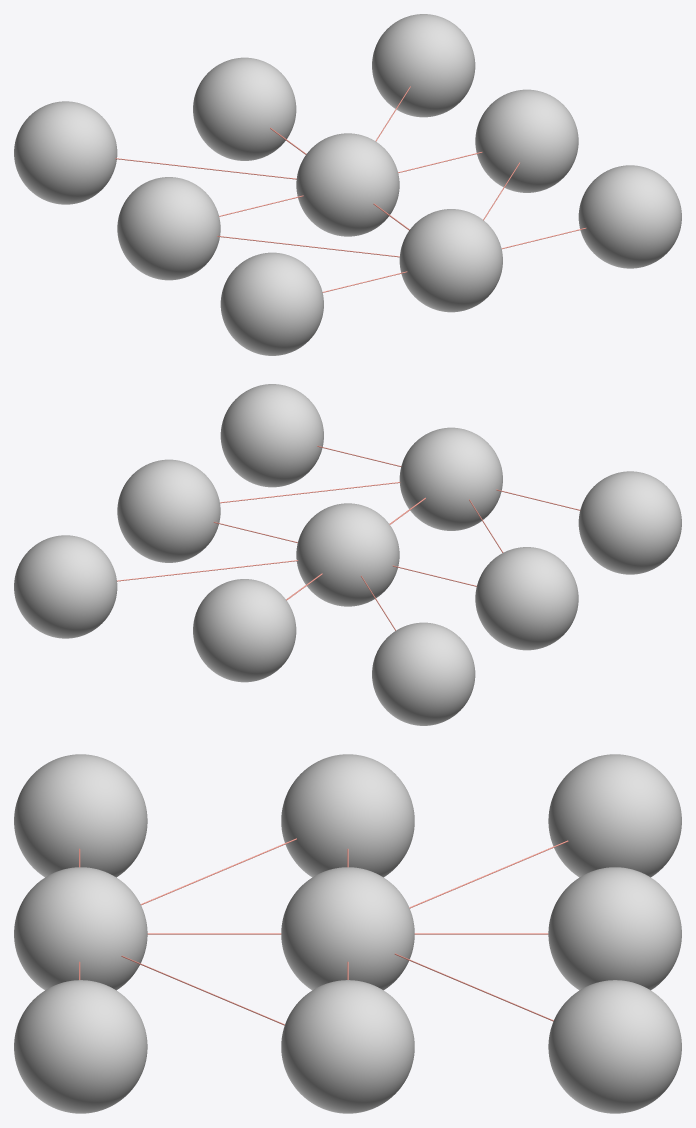
The picture shows the model from 3 angles, top to bottom: view 1: azimuth 30°, elevation 25°; view 2: azimuth 150°, elevation 25°; view 3: azimuth 270°, elevation 25°; orthographic projection. The views are drawn at different scales.
Parts seen in each view (by area): view 1: Cylinder-Plastic, Cylinder-PBR; view 2: Cylinder-Plastic, Cylinder-PBR; view 3: Cylinder-Plastic, Cylinder-PBR.
Part boxes in pixels (x1,y1,x2,y2): Cylinder-Plastic: (14,14,681,355); Cylinder-PBR: (115,86,586,292); Cylinder-Plastic: (14,384,681,725); Cylinder-PBR: (117,445,580,630); Cylinder-Plastic: (14,754,681,1113); Cylinder-PBR: (79,838,568,1025).
Size of the model in its own units: 500 by 100 by 500.
